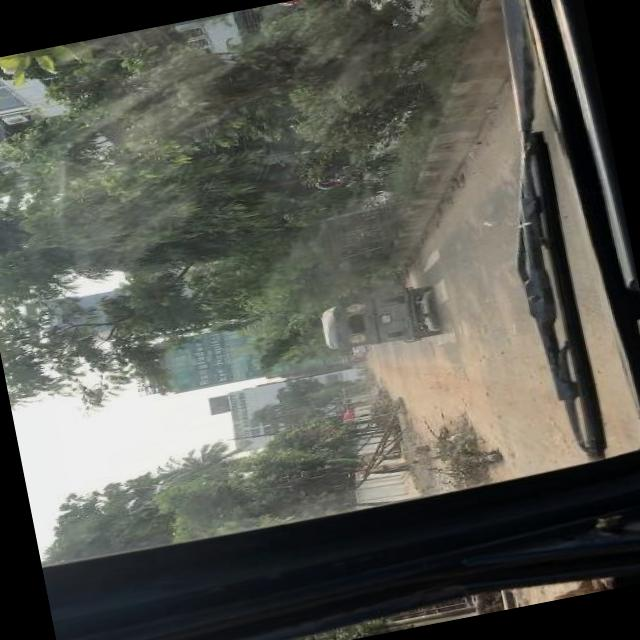car: (353, 344, 368, 356)
motorcycle: (318, 281, 441, 357), (310, 160, 374, 192)
